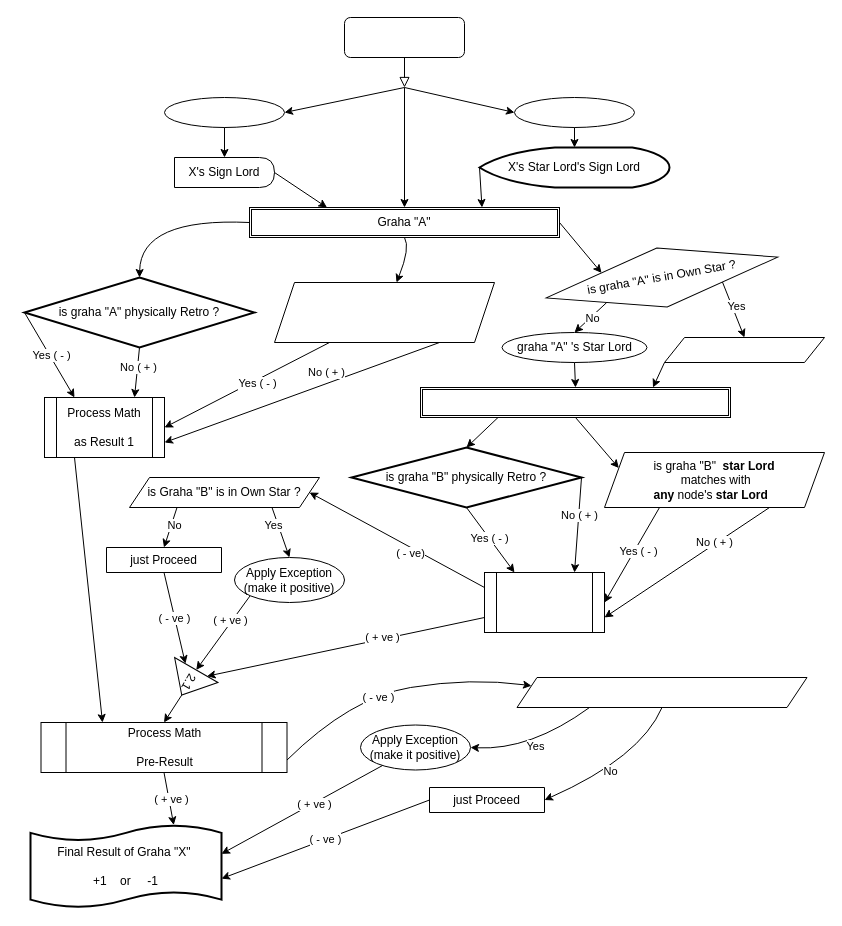
Image size: 842x926. Some labels were removed from this diagram. Each missing label, with the box of its shape:
graha "A" 's Sign Lord: (664, 336, 824, 362)
Graha "B": (420, 386, 730, 418)
Graha "X": (344, 16, 464, 58)
is graha "A" 's Star Lord in 1,2,11,10 (or 5 ): (516, 676, 807, 708)
is graha "A" star Lord matches with any node's star Lord: (274, 282, 494, 342)
Own Star: (164, 96, 284, 128)
Process Math as Result 2: (484, 572, 604, 632)
Star Parivarthana: (514, 96, 634, 128)
